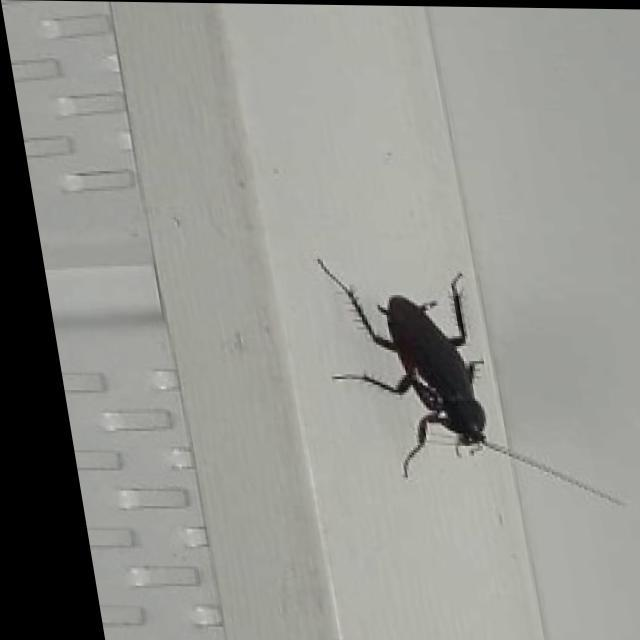cockroach: (326, 243, 552, 538)
